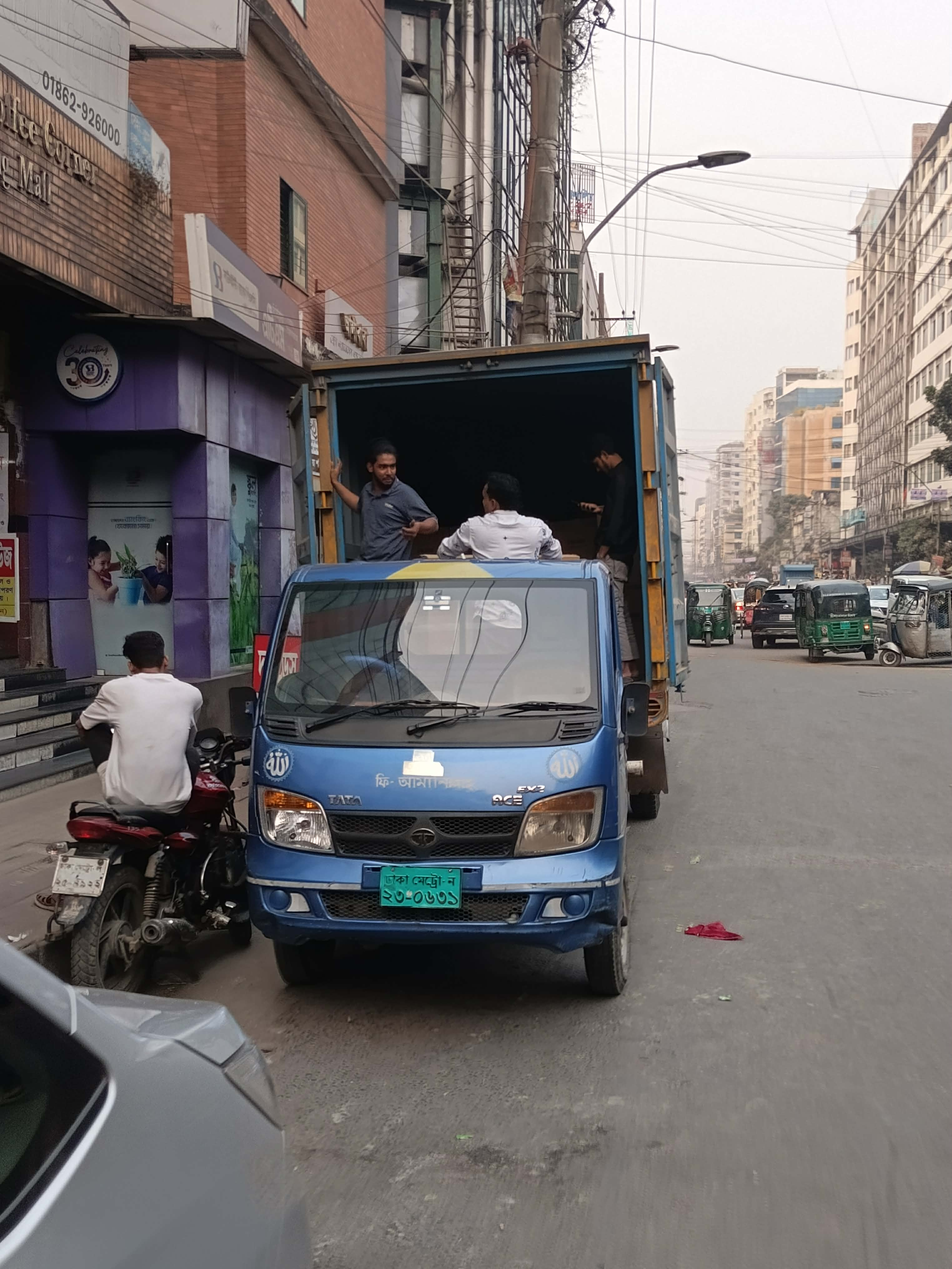Pickup: (234, 335, 700, 1014)
